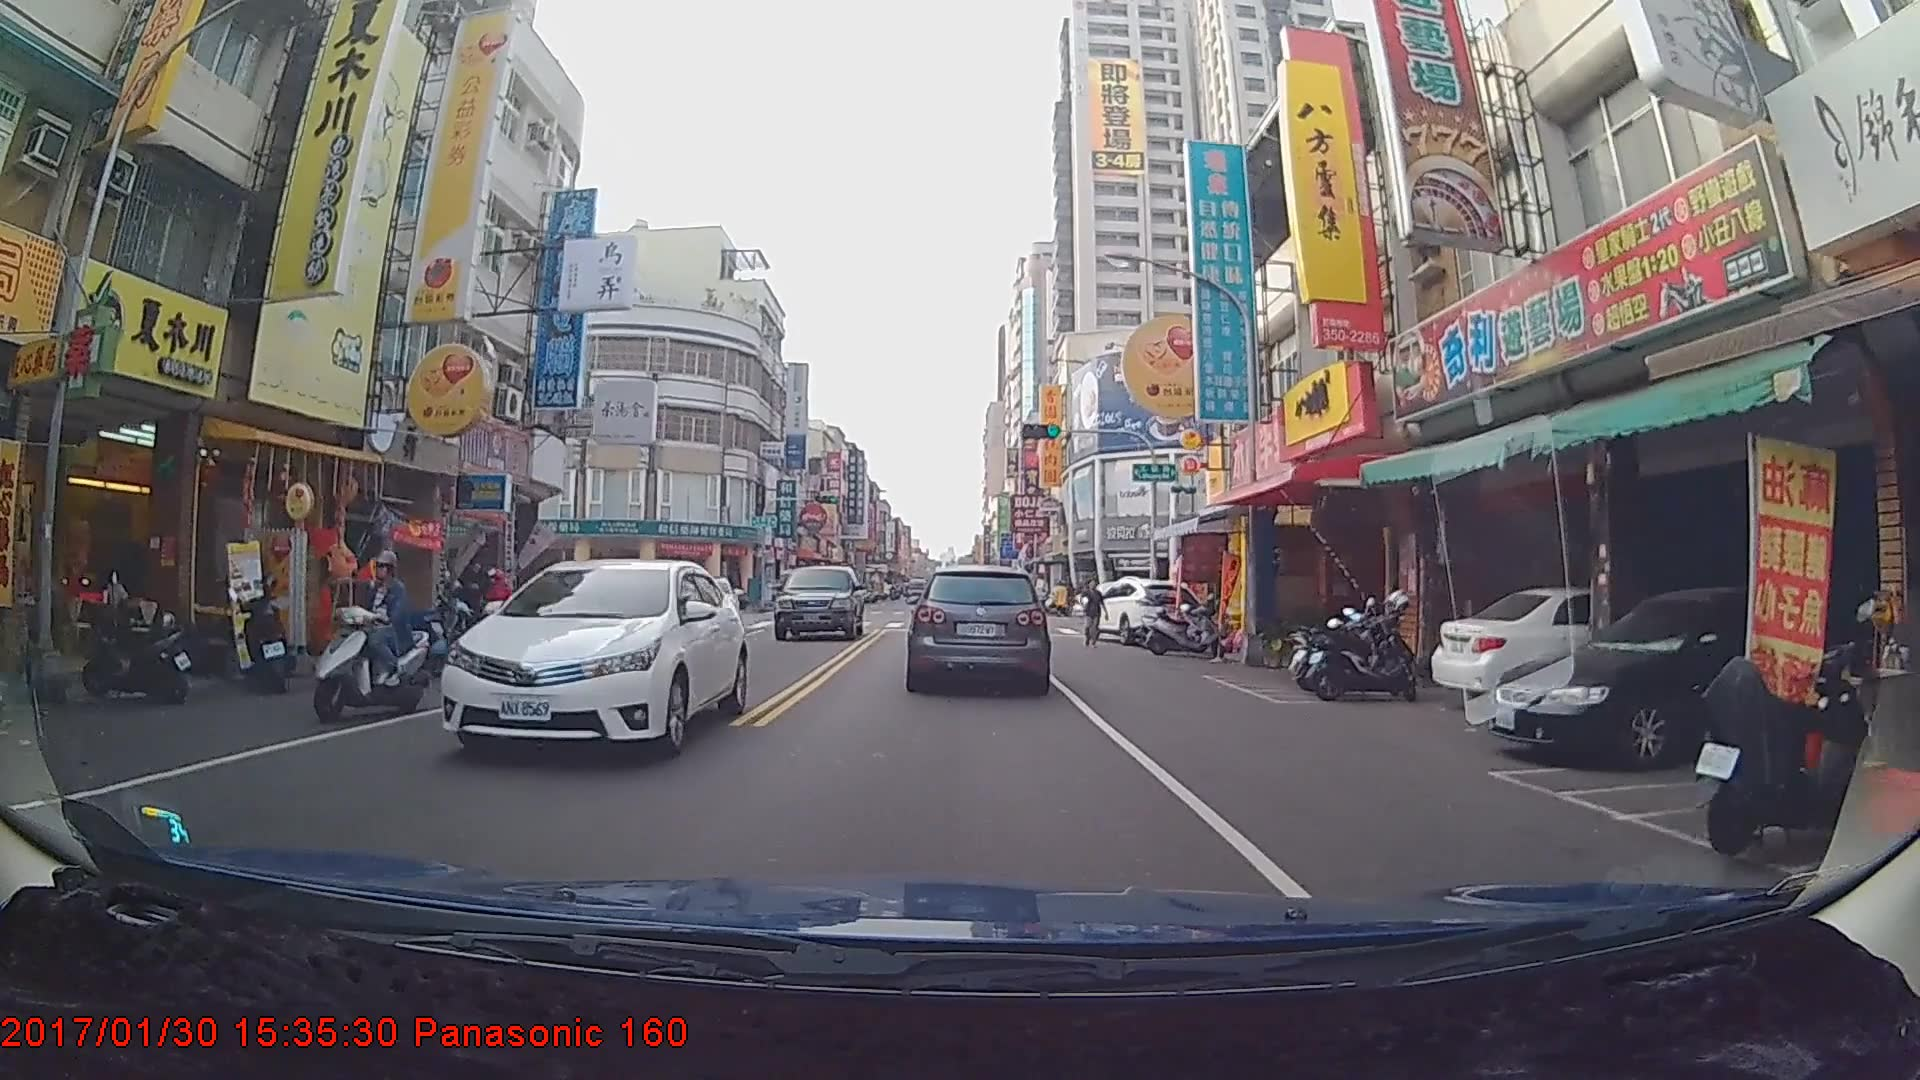pedestrian: (1081, 579, 1106, 651)
rider: (302, 553, 433, 729)
vehicle: (1485, 580, 1887, 771), (436, 553, 748, 762), (908, 563, 1048, 692), (1080, 575, 1207, 644), (773, 564, 865, 643), (903, 577, 928, 604)
